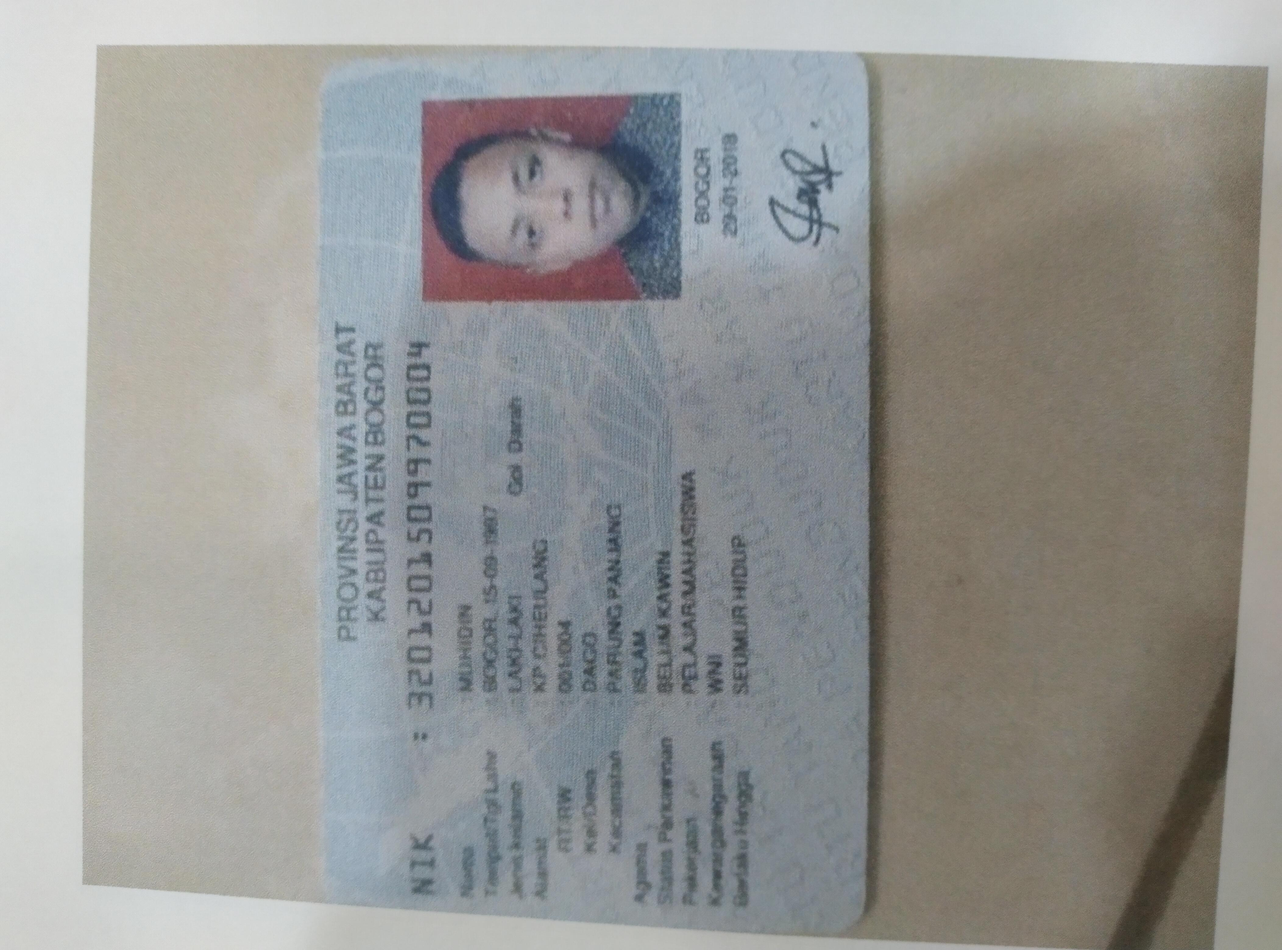ID-card: (30, 235, 1207, 646)
